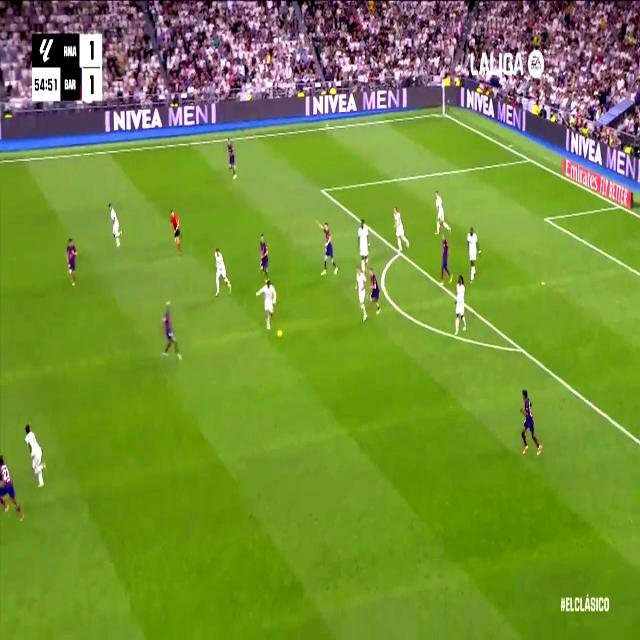bigarea_top_inner: (319, 183, 325, 197)
bigarea_top_outter: (524, 150, 533, 166)
bottom_arc_area_intersection: (515, 336, 527, 359)
corner: (438, 107, 448, 119)
smallarea_top_inner: (540, 209, 550, 228)
top_arc_area_intersection: (396, 242, 404, 261)
